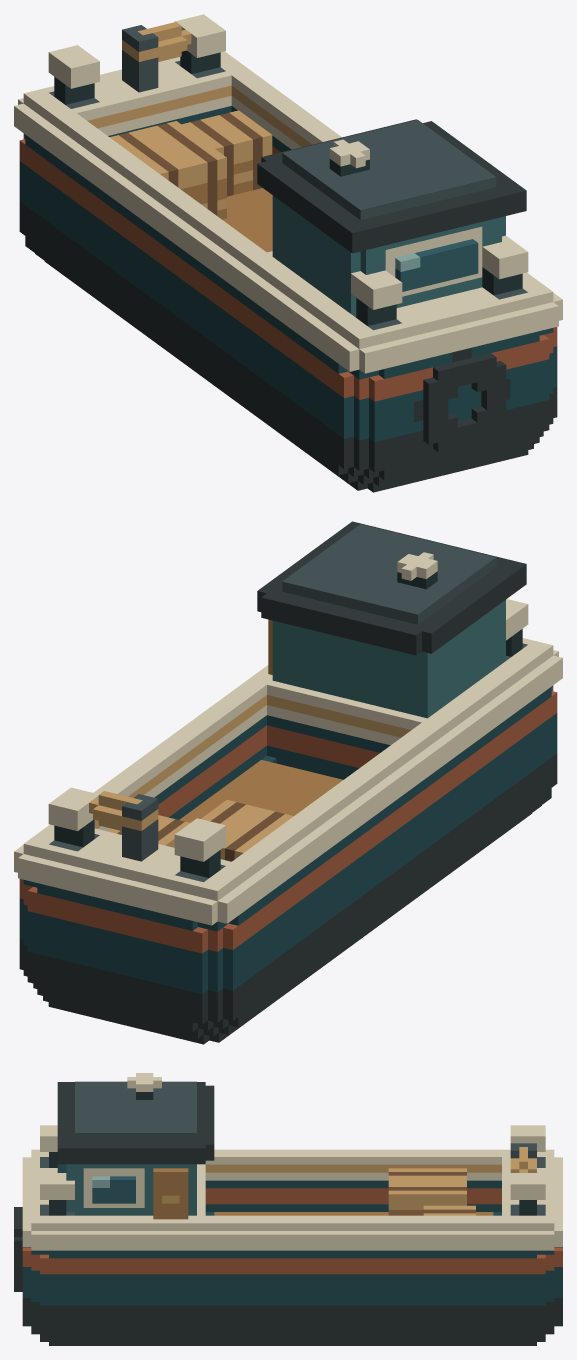
The model's file is canal_boat.glb.
3 renders of one model, top to bottom at view 1: azimuth 30°, elevation 25°; view 2: azimuth 150°, elevation 25°; view 3: azimuth 270°, elevation 25°, orthographic. The views are drawn at different scales.
Parts seen in each view (by area): view 1: canal_boat; view 2: canal_boat; view 3: canal_boat.
Part boxes in pixels (x1,y1,x2,y2): canal_boat: (14, 14, 562, 492); canal_boat: (14, 521, 562, 1044); canal_boat: (14, 1073, 562, 1345).
Size of the model in its own units: 2.86 by 3.64 by 8.19.
